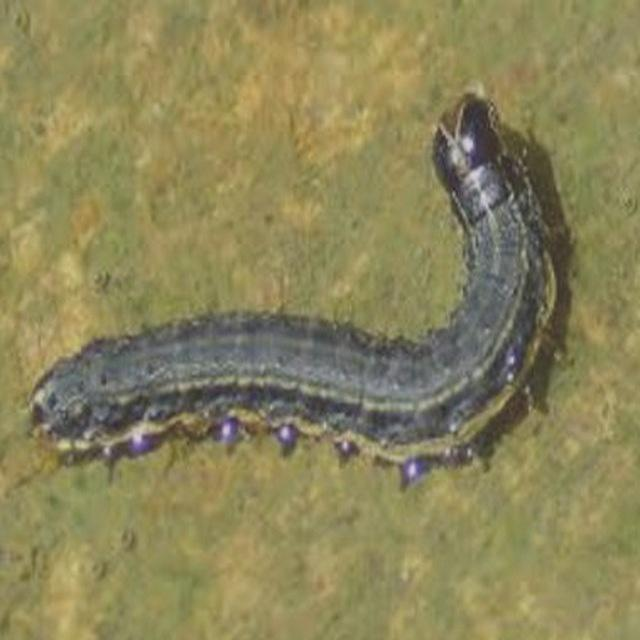gusano_cogollero: (29, 84, 567, 489)
